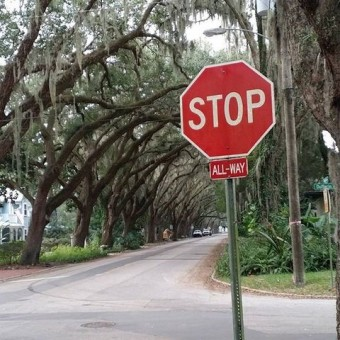SS: (179, 62, 276, 156)
